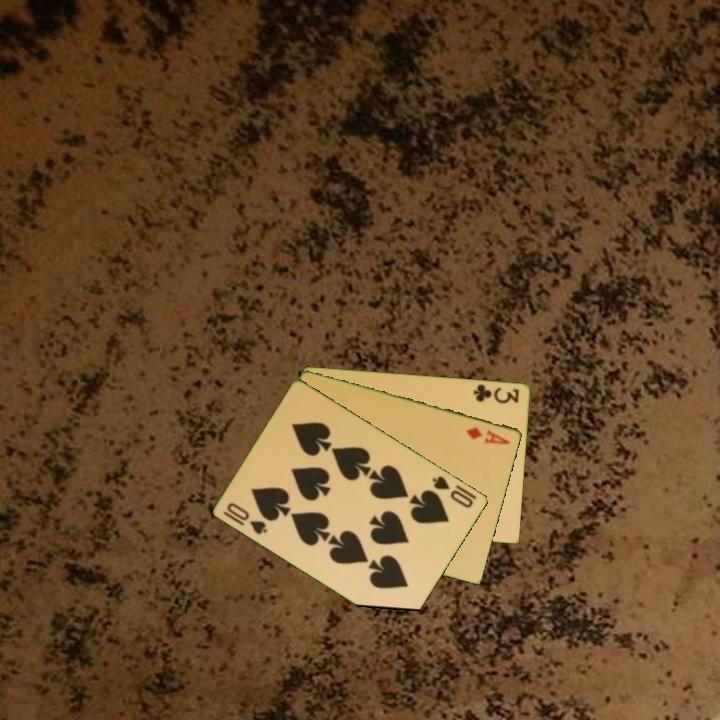10s: (220, 499, 270, 537), (429, 472, 476, 511)
3c: (470, 380, 522, 406)
Ad: (462, 423, 513, 447)
